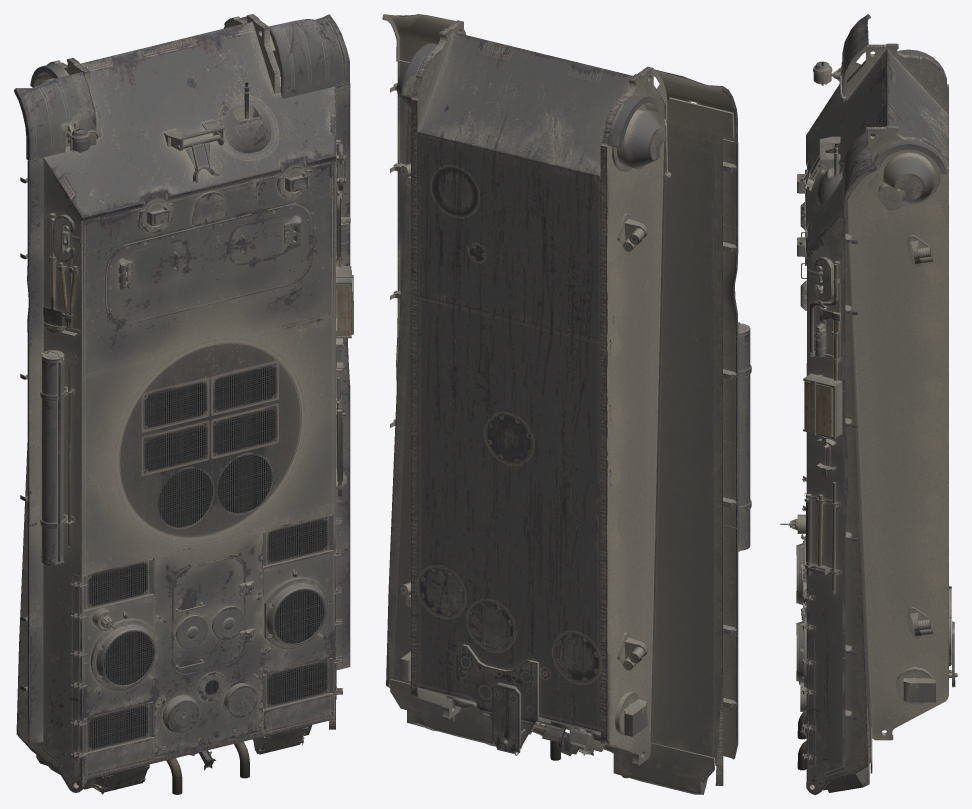
The model's file is Hull.glb.
3 renders of one model, left to right at view 1: azimuth 30°, elevation 25°; view 2: azimuth 150°, elevation 25°; view 3: azimuth 270°, elevation 25°, orthographic. The views are drawn at different scales.
Visible parts, largest first — view 1: set_0_group_0; view 2: set_0_group_0; view 3: set_0_group_0.
Boxes of the visible parts, x1=… form: set_0_group_0: x1=14, y1=14, x2=353, y2=794; set_0_group_0: x1=382, y1=14, x2=751, y2=794; set_0_group_0: x1=780, y1=14, x2=957, y2=794.
Size of the model in its own units: 3.3 by 6.94 by 1.67.
Materials: 1 (1 with a texture image).
